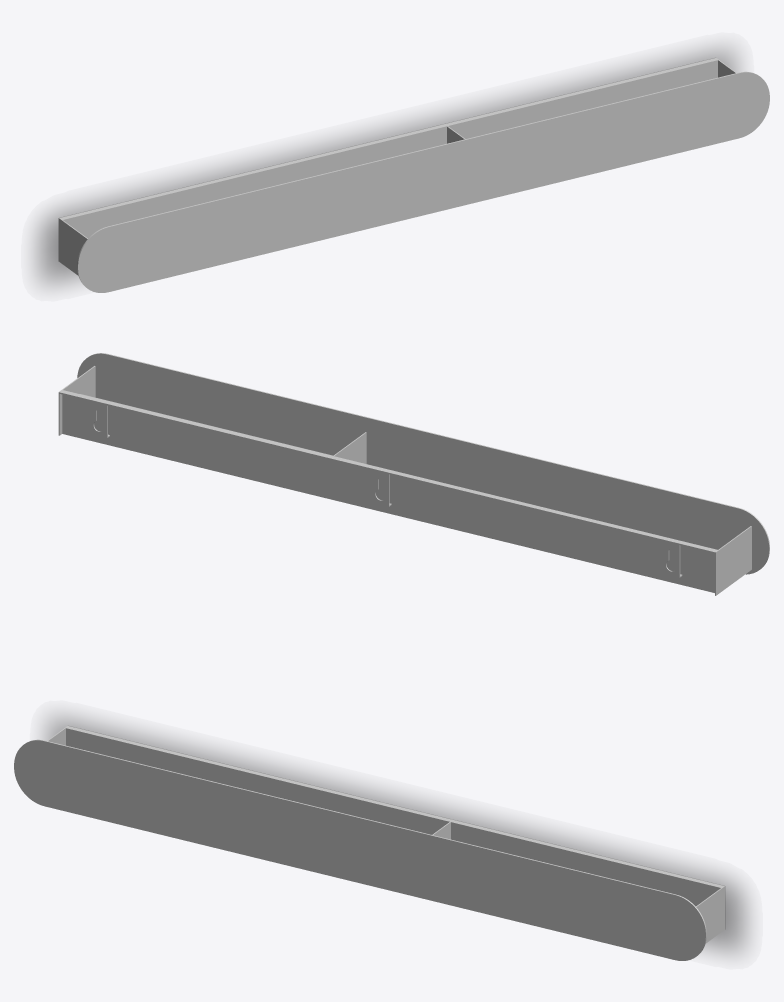
Rendered from round-double.530cabffdb.ar.glb.
The picture shows the model from 3 angles, top to bottom: view 1: azimuth 30°, elevation 25°; view 2: azimuth 150°, elevation 25°; view 3: azimuth 330°, elevation 25°; orthographic projection.
Parts seen in each view (by area): view 1: NAUO1, object 2; view 2: NAUO1; view 3: NAUO1, object 2.
Boxes of the visible parts, x1,y1,x2,y2 form: NAUO1: (58, 57, 769, 292); object 2: (35, 48, 739, 285); NAUO1: (58, 353, 769, 595); NAUO1: (14, 725, 725, 960); object 2: (44, 716, 748, 953).
Bounding box in the file's own units: 1.08 × 0.17 × 0.092.
2 materials, 1 textured.
